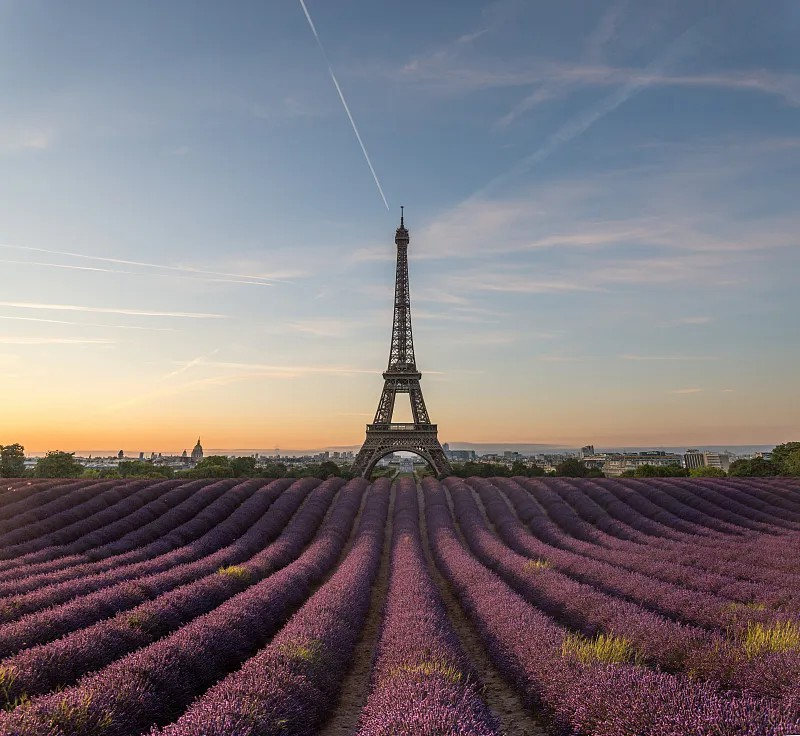Eiffel: (349, 206, 454, 478)
